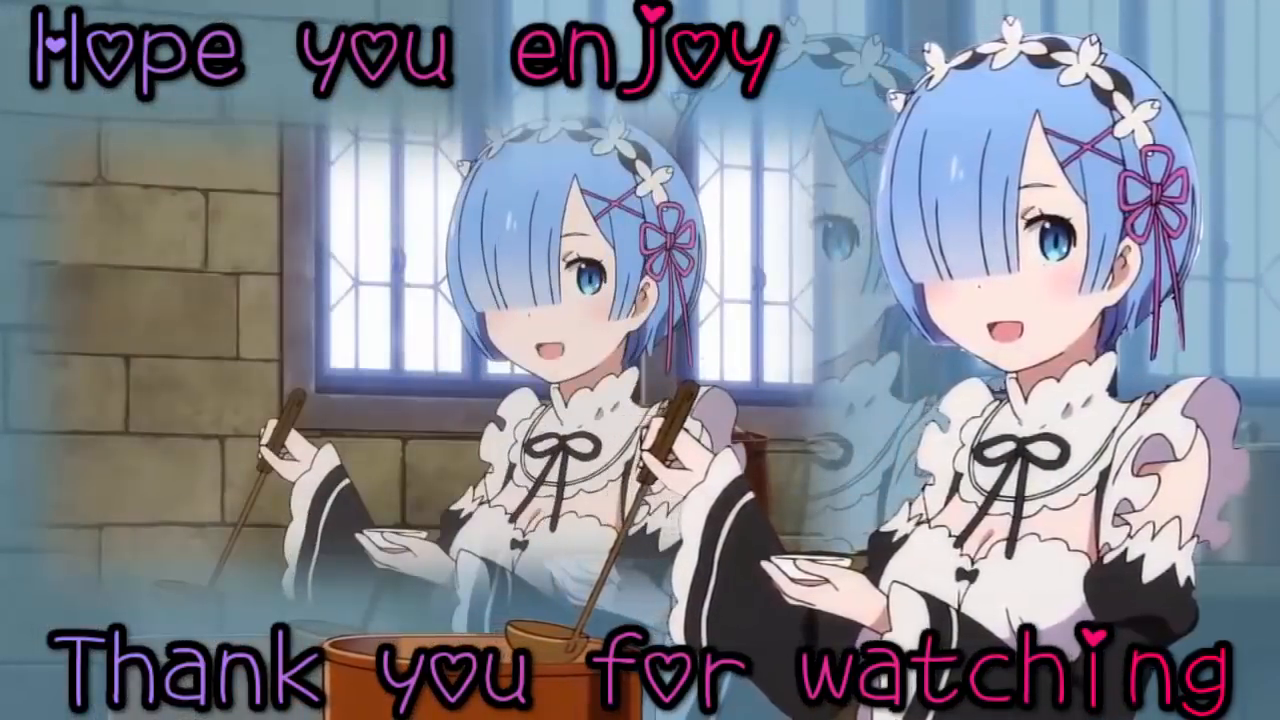REM: (869, 30, 1200, 378), (440, 126, 693, 383)
